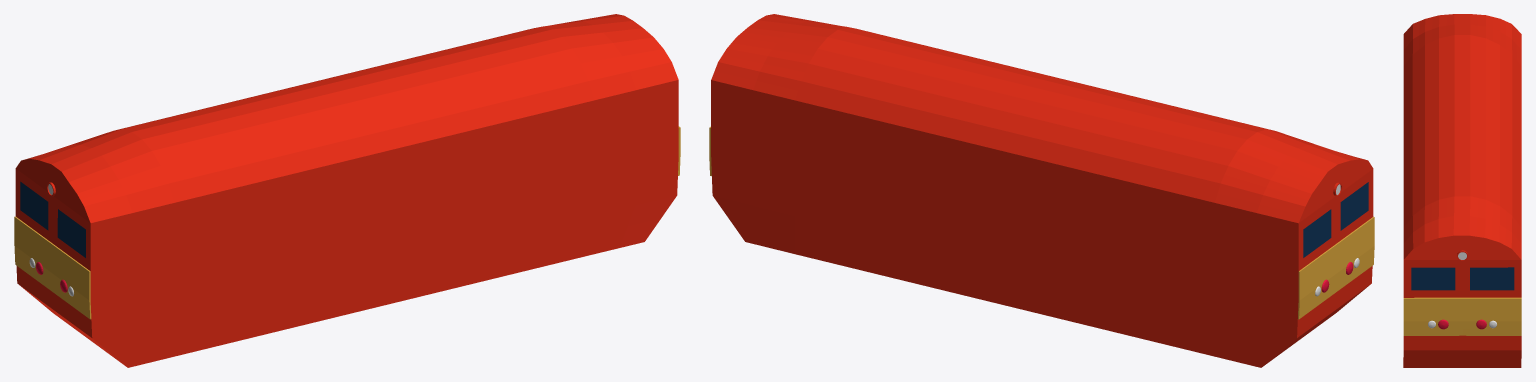
File: engine.glb
The picture shows the model from 3 angles, left to right: view 1: azimuth 30°, elevation 25°; view 2: azimuth 150°, elevation 25°; view 3: azimuth 270°, elevation 25°; orthographic projection. The views are drawn at different scales.
Parts seen in each view (by area): view 1: Engine; view 2: Engine; view 3: Engine.
Part boxes in pixels (x1,y1,x2,y2): Engine: (14,14,680,367); Engine: (709,14,1374,367); Engine: (1403,14,1521,367).
Bounding box in the file's own units: 14.19 × 4.41 × 3.1.
